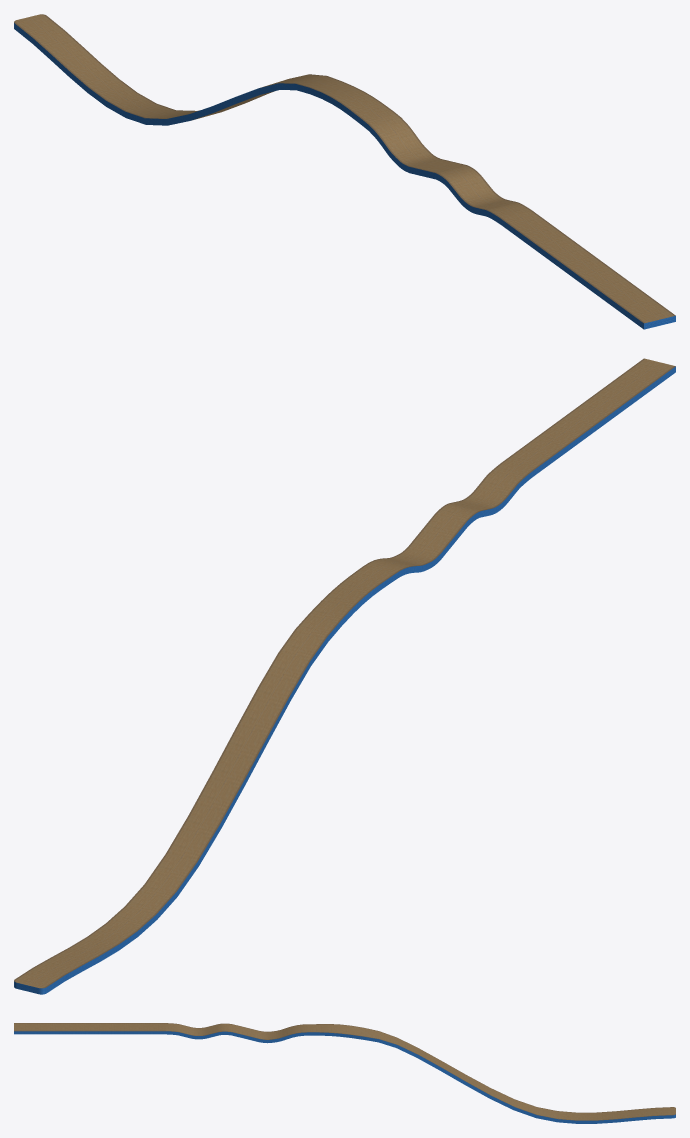
Rendered from ramp_3.FBX.
The picture shows the model from 3 angles, top to bottom: view 1: azimuth 30°, elevation 25°; view 2: azimuth 150°, elevation 25°; view 3: azimuth 270°, elevation 25°; orthographic projection. The views are drawn at different scales.
Parts seen in each view (by area): view 1: Line002; view 2: Line002; view 3: Line002.
Boxes of the visible parts, bbox=[...] form: Line002: bbox=[14, 14, 675, 329]; Line002: bbox=[14, 358, 675, 994]; Line002: bbox=[14, 1023, 675, 1123].
Size of the model in its own units: 587 by 3042 by 19665.
